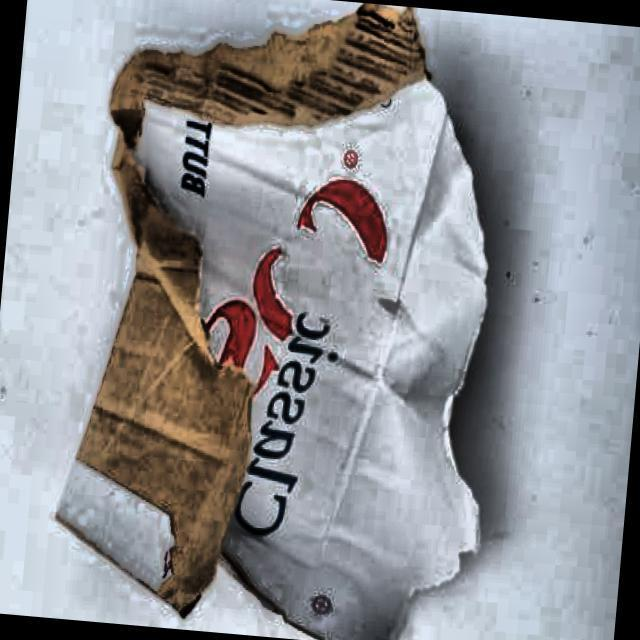cardboard: (47, 0, 525, 640)
